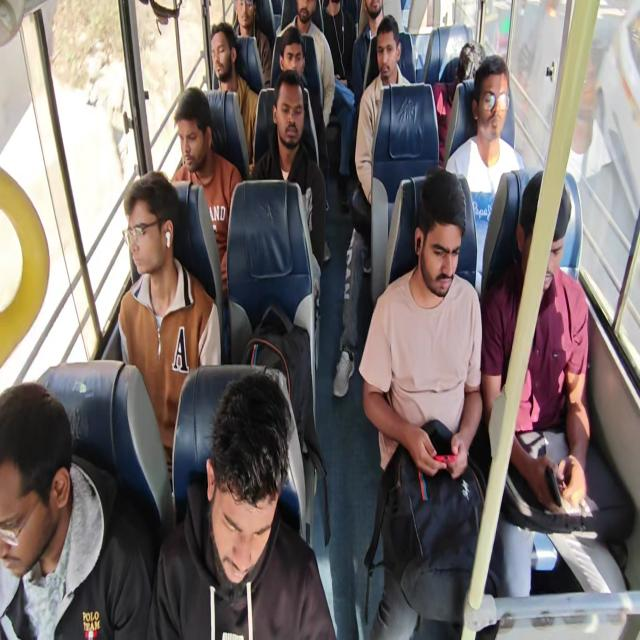person: (480, 169, 634, 637), (358, 167, 485, 638), (146, 371, 337, 639), (0, 381, 153, 639), (117, 170, 221, 484), (332, 15, 412, 397), (249, 69, 326, 362), (445, 54, 522, 290), (170, 86, 243, 299), (354, 15, 412, 204), (271, 25, 323, 169), (322, 0, 356, 211), (209, 21, 259, 163), (280, 0, 335, 128), (433, 40, 486, 166), (351, 0, 385, 114), (232, 0, 272, 88), (322, 0, 355, 86)
